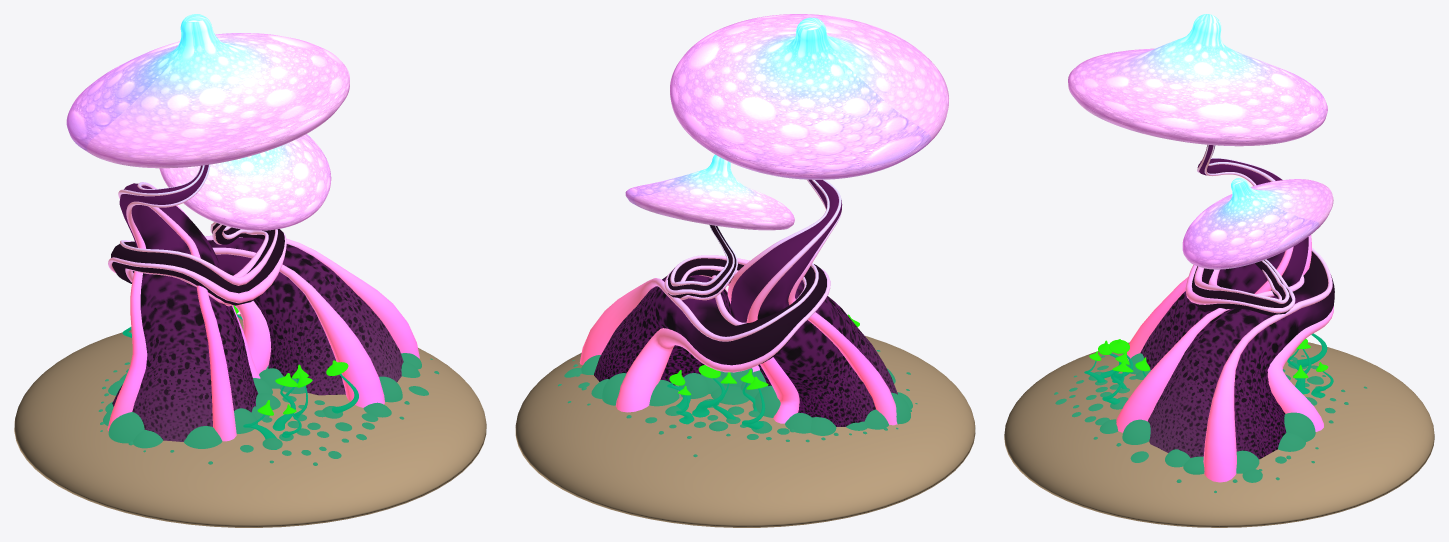
The model's file is mushroom_magic.glb.
3 renders of one model, left to right at view 1: azimuth 30°, elevation 25°; view 2: azimuth 150°, elevation 25°; view 3: azimuth 270°, elevation 25°, orthographic. The views are drawn at different scales.
Parts seen in each view (by area): view 1: Sphere_3, BezierCurve_1, Spiral.002_6, Spiral.001_0, Spiral.006_8, BezierCurve.001_2, Sphere.381_33, Spiral.005_7; view 2: Sphere_3, BezierCurve_1, Spiral.002_6, Spiral.001_0, Spiral.006_8, Sphere.381_33, BezierCurve.001_2, Spiral.005_7; view 3: Sphere_3, BezierCurve_1, Spiral.001_0, Spiral.006_8, BezierCurve.001_2, Sphere.381_33, Spiral.002_6, Spiral.005_7.
Boxes of the visible parts, x1,y1,x2,y2 form: Sphere_3: (14,314,486,527); BezierCurve_1: (66,14,349,168); Spiral.002_6: (112,164,258,441); Spiral.001_0: (111,223,403,395); Spiral.006_8: (108,222,419,407); BezierCurve.001_2: (159,134,331,230); Sphere.381_33: (98,353,439,465); Spiral.005_7: (107,164,260,441); Sphere_3: (515,336,975,527); BezierCurve_1: (670,14,948,179); Spiral.002_6: (730,179,897,426); Spiral.001_0: (594,225,826,397); Spiral.006_8: (579,225,830,412); Sphere.381_33: (558,350,917,457); BezierCurve.001_2: (625,154,794,230); Spiral.005_7: (727,179,897,425); Sphere_3: (1004,342,1434,527); BezierCurve_1: (1068,14,1327,146); Spiral.001_0: (1148,251,1334,459); Spiral.006_8: (1116,248,1333,482); BezierCurve.001_2: (1182,178,1333,269); Sphere.381_33: (1054,353,1367,492); Spiral.002_6: (1140,145,1308,369); Spiral.005_7: (1127,144,1311,360).
Size of the model in its own units: 2.58 by 2.61 by 2.58.
Materials: 9 (3 with a texture image).
